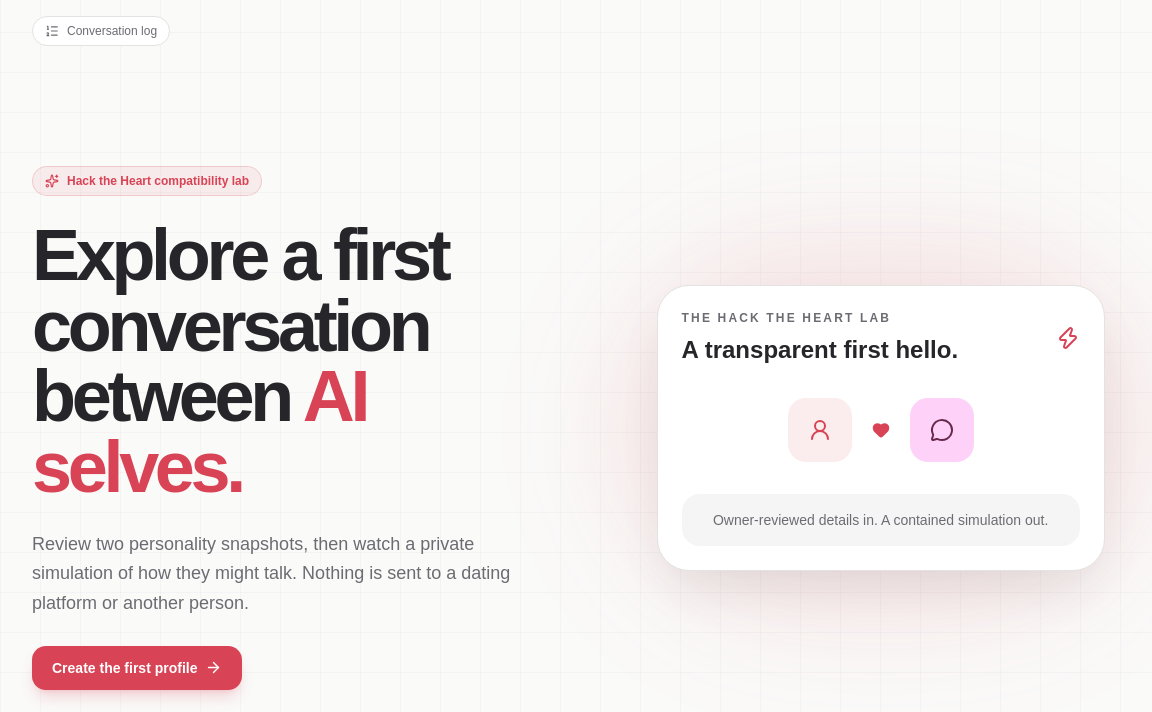
allows Person One to author a blank stored profile
Later steps or results of the test are not shown.
Step 1. Click the button "Create the first profile" → (137, 668), box x1=32 y1=646 x2=242 y2=690
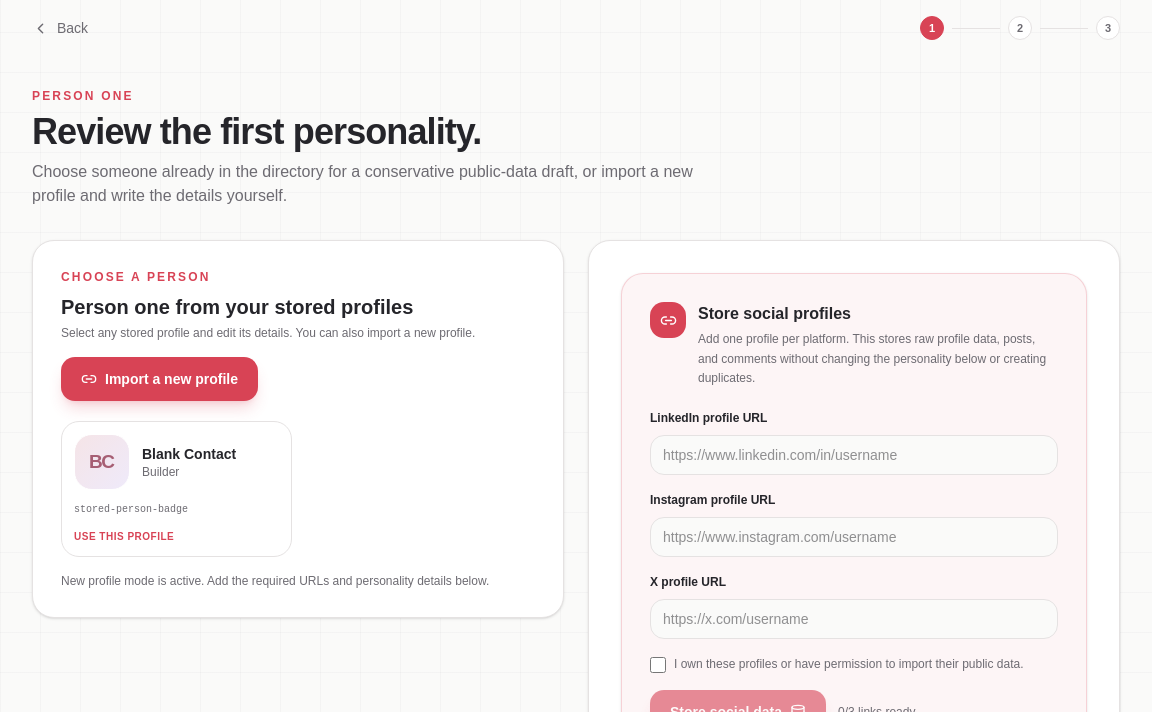
Now the text "Blank Contact" is shown, box x1=142 y1=444 x2=236 y2=464
Step 2. Click the button that starts with "Blank Contact" → (176, 489), box x1=61 y1=421 x2=292 y2=557
(page scrolled)
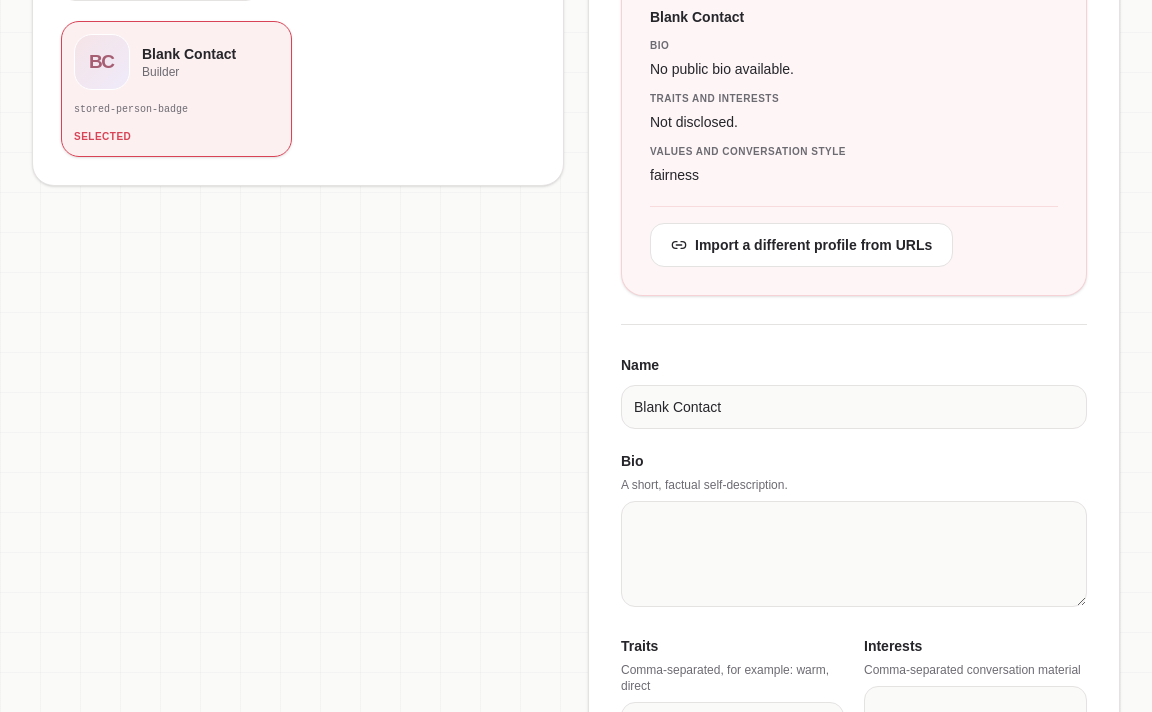
Now the field labelled "Name" is enabled, box x1=621 y1=385 x2=1087 y2=429
